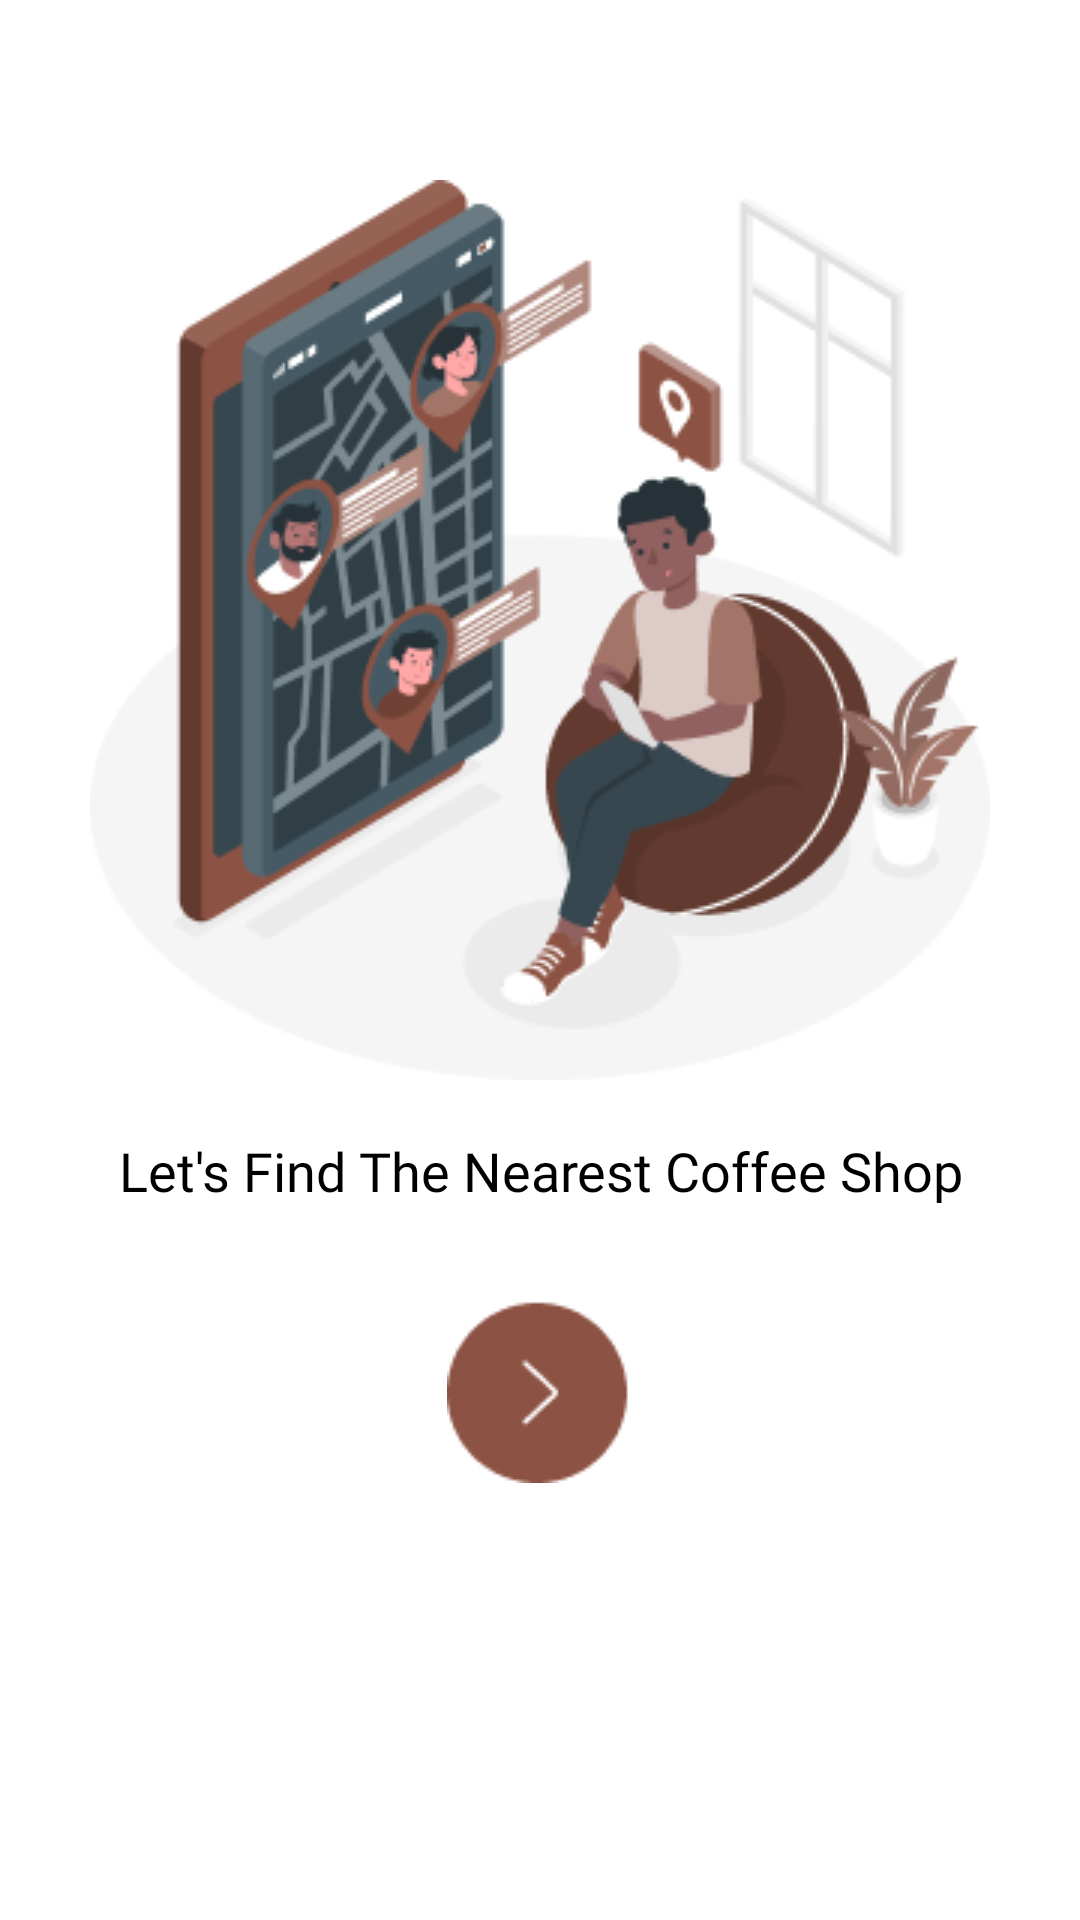

Icon bounding boxes for this 1080x1920 phone screenshot, format [x1=x1, y1=y1, x2=x2, y2=y2]:
startmap: [x1=447, y1=1302, x2=628, y2=1483]
